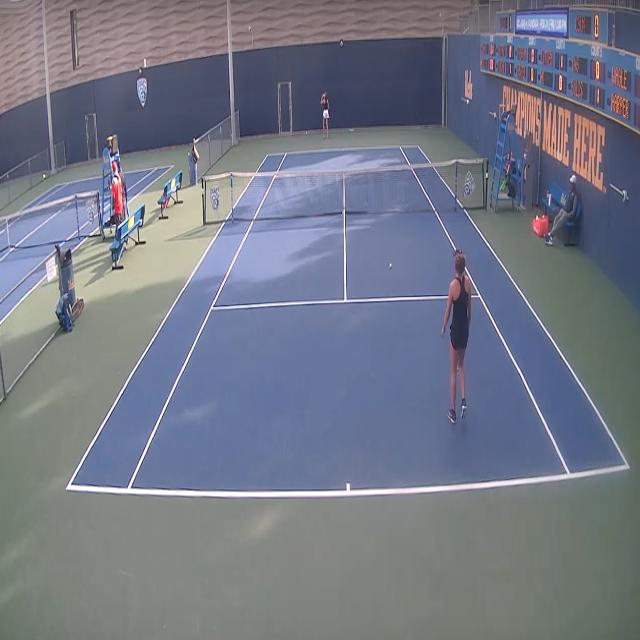ball: (388, 261, 392, 270)
